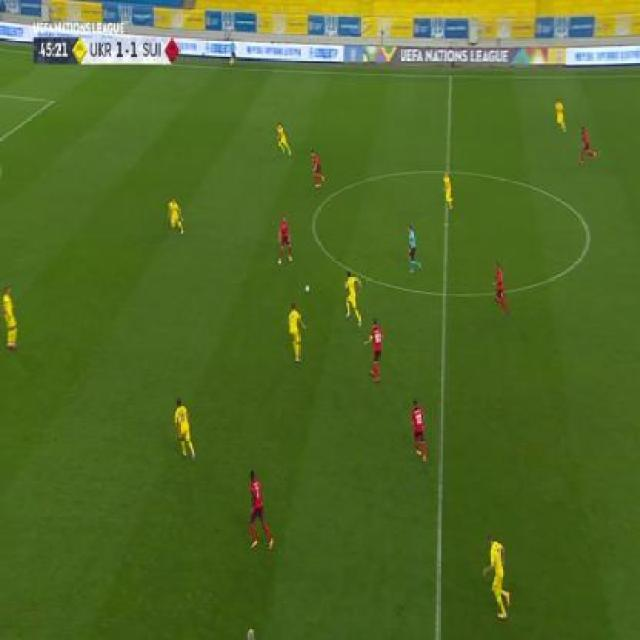ball: (304, 283, 310, 294)
player: (482, 531, 513, 619), (244, 468, 275, 553), (173, 397, 196, 459), (285, 302, 307, 364), (408, 398, 428, 463), (365, 316, 384, 382), (1, 285, 20, 350), (491, 258, 511, 317), (343, 270, 363, 327), (276, 214, 293, 267), (406, 223, 422, 274), (578, 125, 598, 165), (167, 196, 186, 236), (309, 147, 325, 189), (276, 120, 292, 157), (441, 171, 455, 211), (554, 97, 568, 133), (229, 38, 237, 67)
